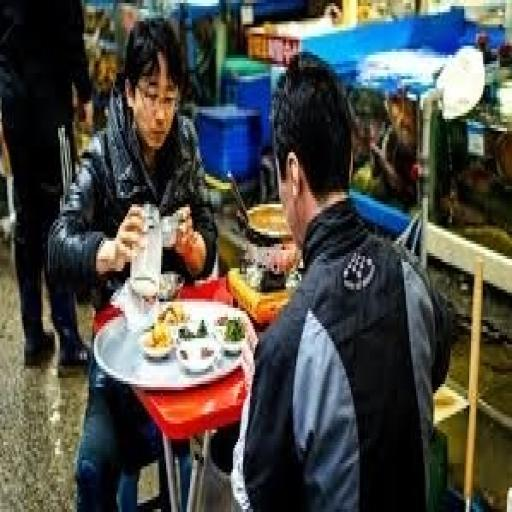eating: (41, 15, 452, 506)
